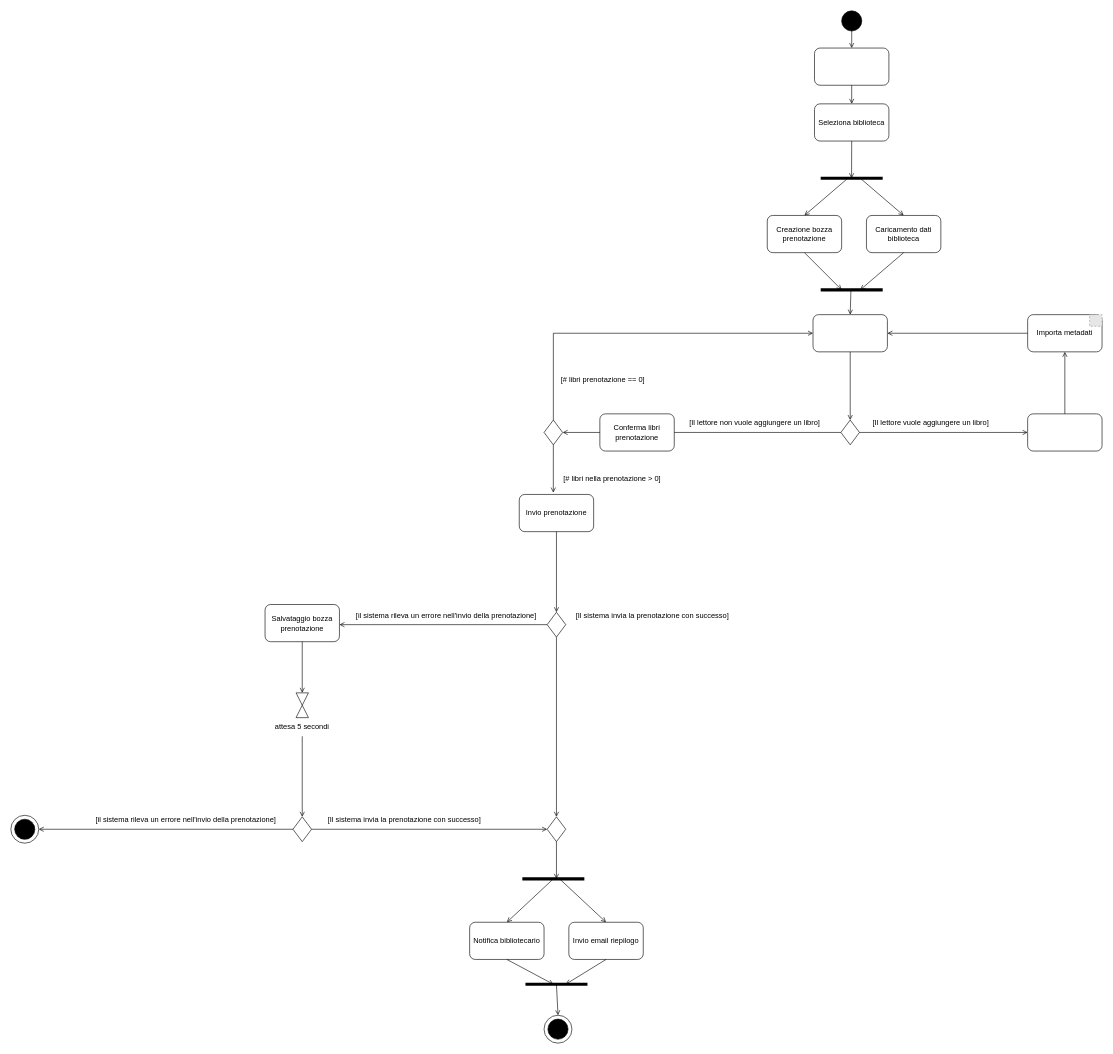
The diagram is 1113 pixels wide and 1054 high, and some of its shapes have lost their labels. Grey dashed boxes stand in for pictures. The centre of each missing label's shape, as x and y in pixels:
Mostra prenotazione aggiornata: (x=849, y=333)
Richiedi aggiunta libro: (x=1064, y=432)
Richiedi al sistema creazione prenotazione: (x=851, y=66)
